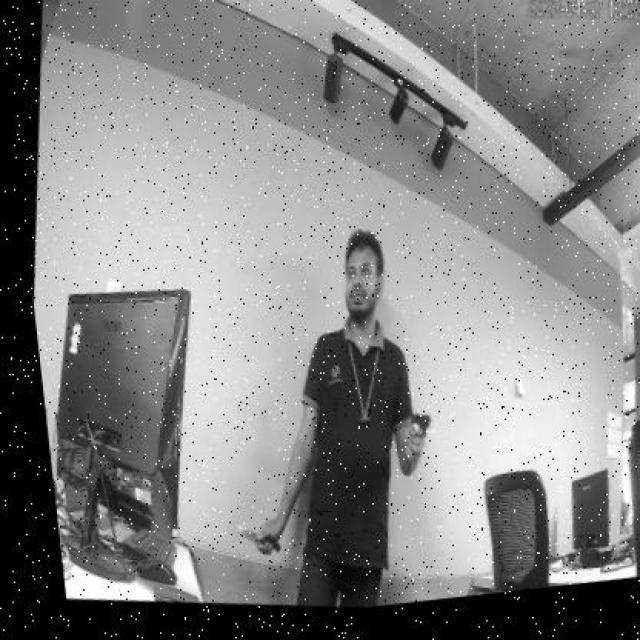weapon: (408, 414, 432, 440)
